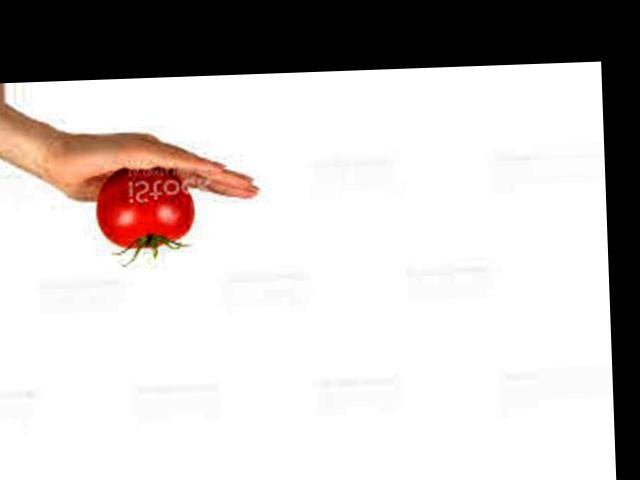tomato: (95, 167, 194, 251)
